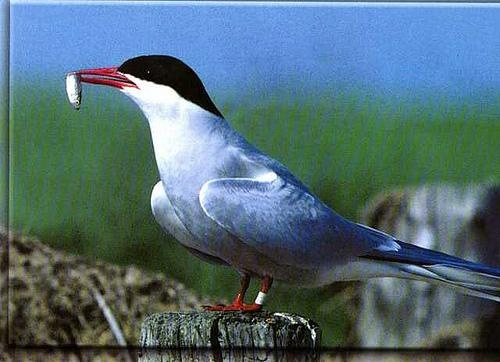bird: (60, 58, 500, 312)
